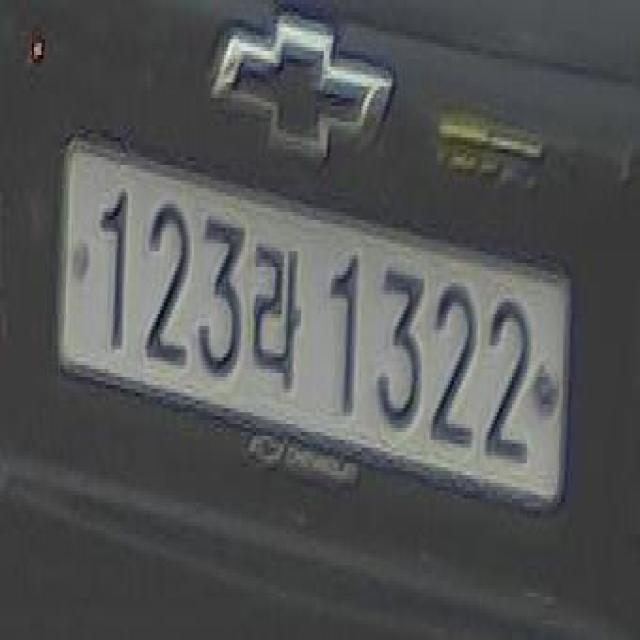illegal_plate: (53, 142, 568, 516)
